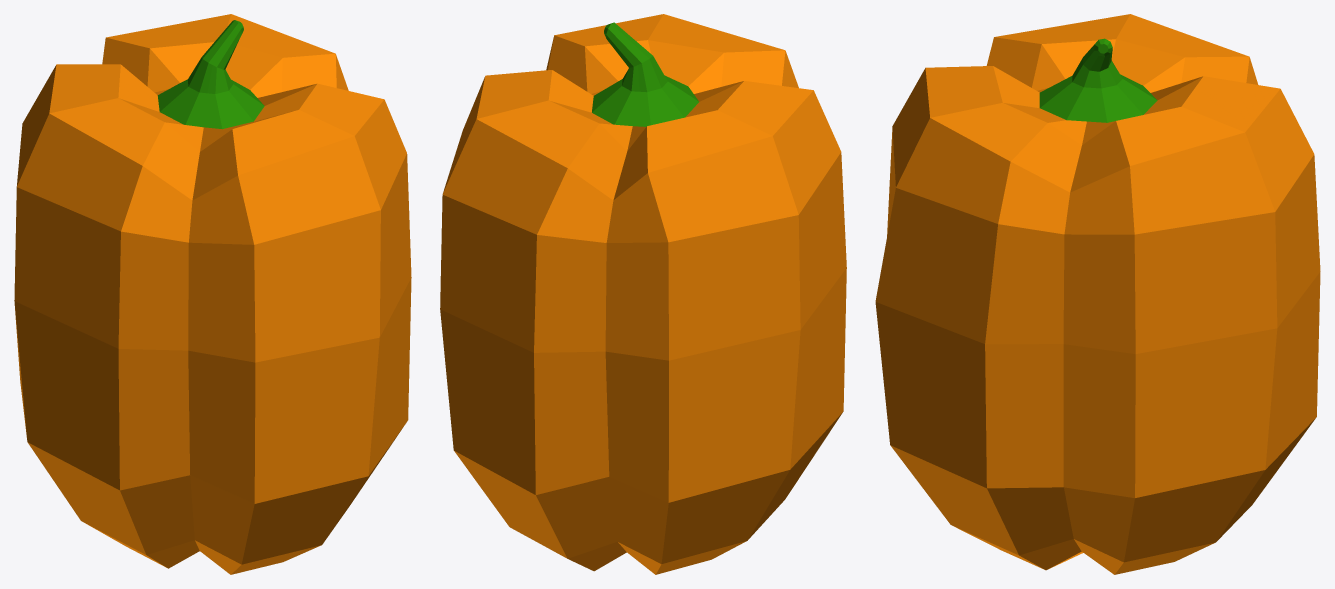
File: pepperfruit03.obj
The picture shows the model from 3 angles, left to right: view 1: azimuth 30°, elevation 25°; view 2: azimuth 150°, elevation 25°; view 3: azimuth 270°, elevation 25°; orthographic projection.
Visible parts, largest first — view 1: Cylinder.002; view 2: Cylinder.002; view 3: Cylinder.002.
Boxes of the visible parts, x1,y1,x2,y2 form: Cylinder.002: (14, 14, 411, 574); Cylinder.002: (440, 14, 846, 574); Cylinder.002: (875, 14, 1320, 574).
Bounding box in the file's own units: 0.0613 × 0.0863 × 0.0678.
Materials: 1 (1 with a texture image).
